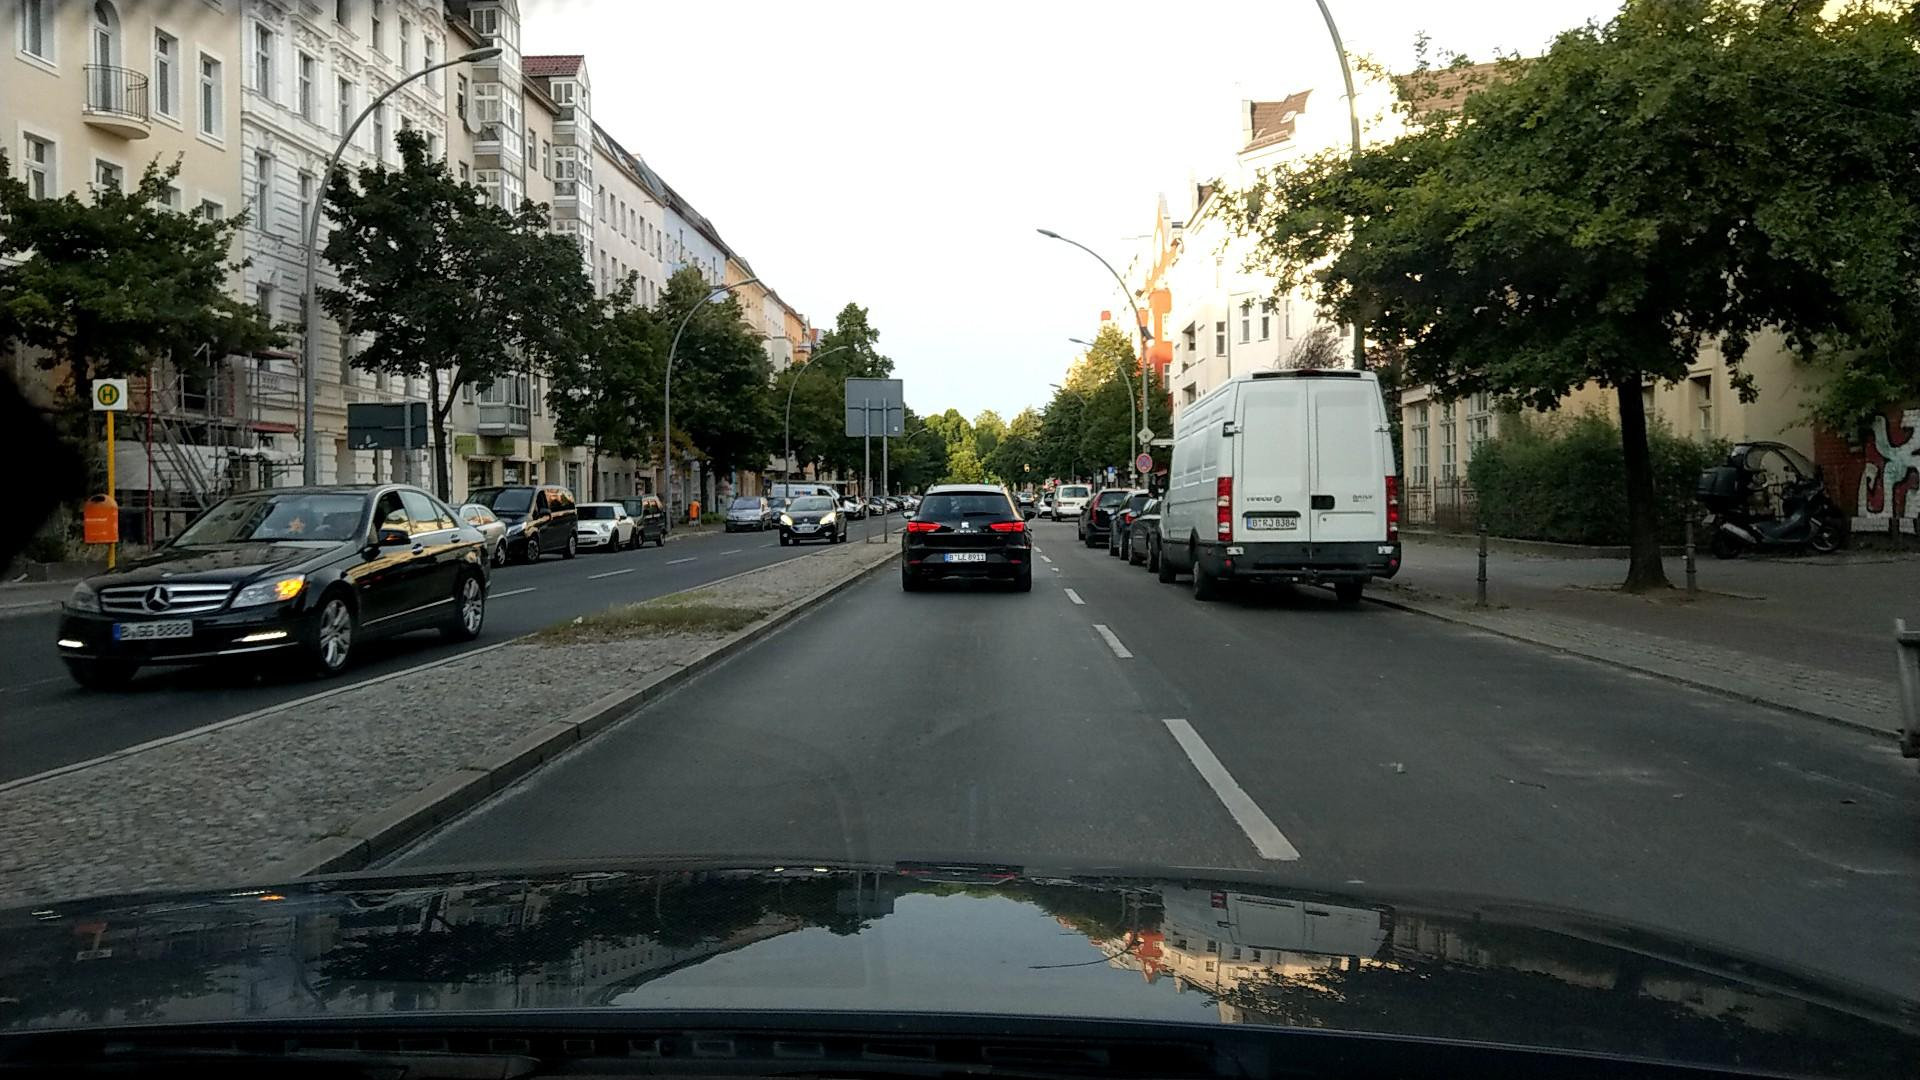Vehicle registration plate: (108, 621, 195, 640), (1245, 514, 1299, 531), (943, 551, 987, 563)
